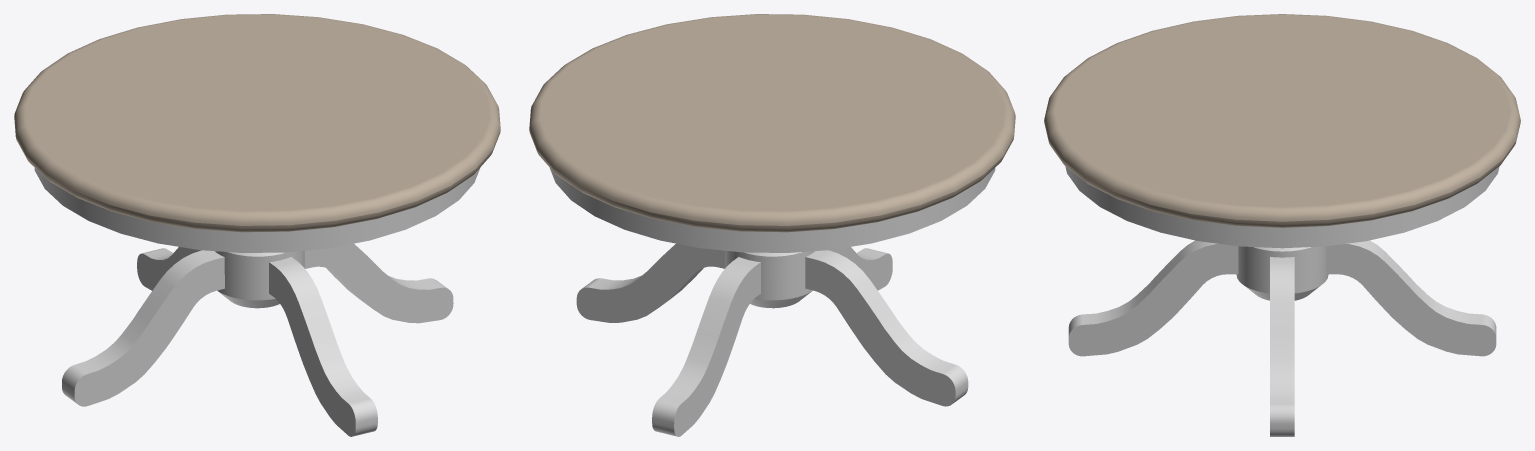
The model's file is TableRonde_23.fbx.
3 renders of one model, left to right at view 1: azimuth 30°, elevation 25°; view 2: azimuth 150°, elevation 25°; view 3: azimuth 270°, elevation 25°, orthographic. The views are drawn at different scales.
Visible parts, largest first — view 1: pCylinder13, pCube17, pCube18, pCube19, pCube16; view 2: pCylinder13, pCube17, pCube16, pCube19, pCube18; view 3: pCylinder13, pCube16, pCube18, pCube19.
Boxes of the visible parts, x1,y1,x2,y2 form: pCylinder13: (14, 14, 500, 308); pCube17: (62, 250, 224, 406); pCube18: (269, 257, 377, 436); pCube19: (304, 243, 453, 323); pCube16: (137, 247, 200, 290); pCylinder13: (529, 14, 1015, 308); pCube17: (805, 250, 968, 406); pCube16: (652, 257, 760, 436); pCube19: (576, 243, 725, 322); pCube18: (829, 247, 892, 290); pCylinder13: (1044, 14, 1520, 300); pCube16: (1326, 240, 1496, 356); pCube18: (1068, 240, 1238, 356); pCube19: (1270, 257, 1294, 436).
Size of the model in its own units: 50.5 by 28.04 by 50.5.
